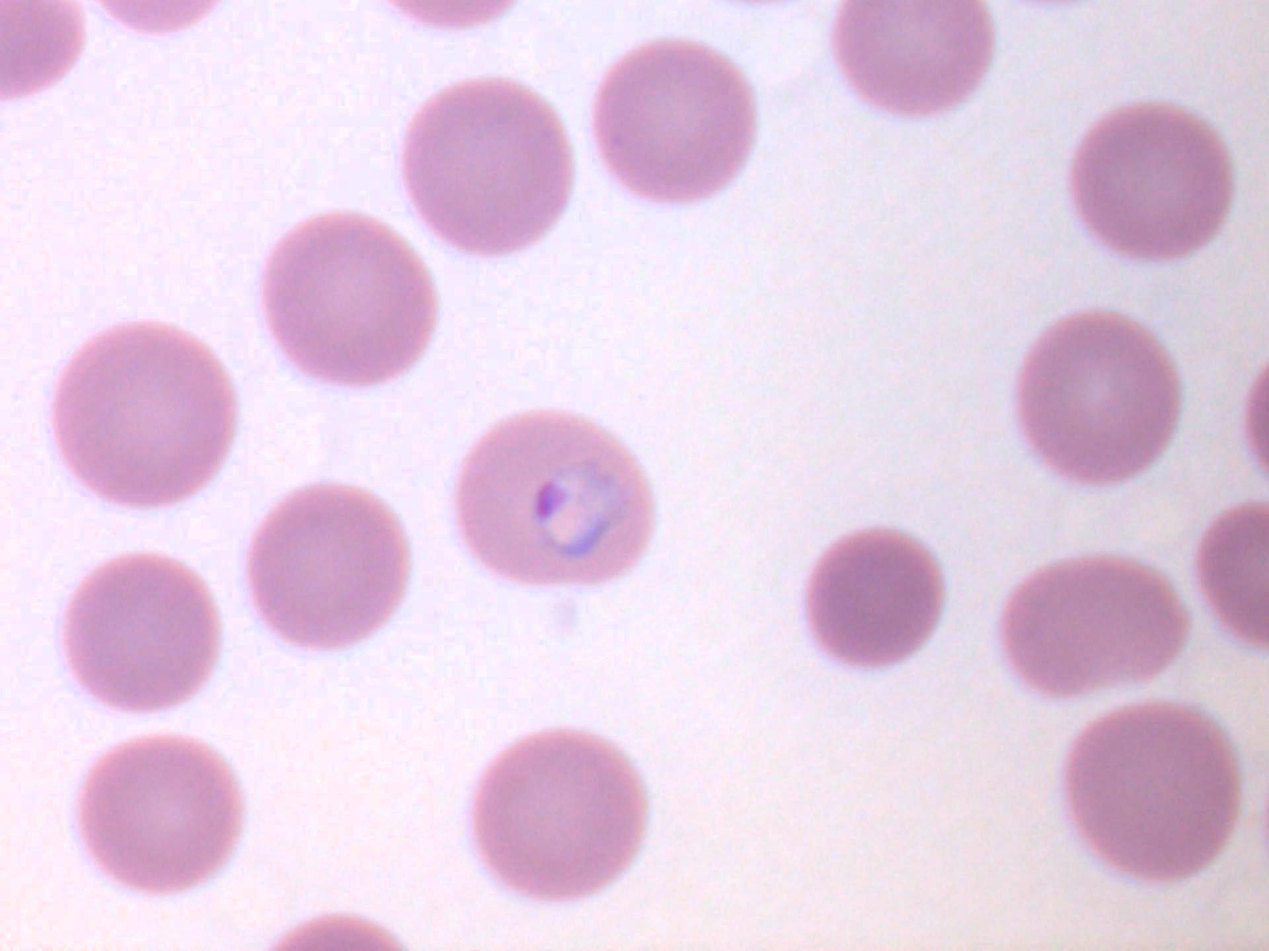Infected: (454, 410, 649, 590)
Uninfected: (54, 323, 239, 506), (262, 212, 440, 385), (1063, 703, 1236, 879), (401, 78, 574, 251), (471, 730, 643, 899), (1017, 311, 1179, 480), (247, 484, 411, 650), (593, 40, 756, 201), (77, 736, 241, 893), (1003, 555, 1184, 697), (63, 552, 223, 711), (1071, 102, 1230, 256), (809, 529, 943, 664), (835, 1, 995, 113)
